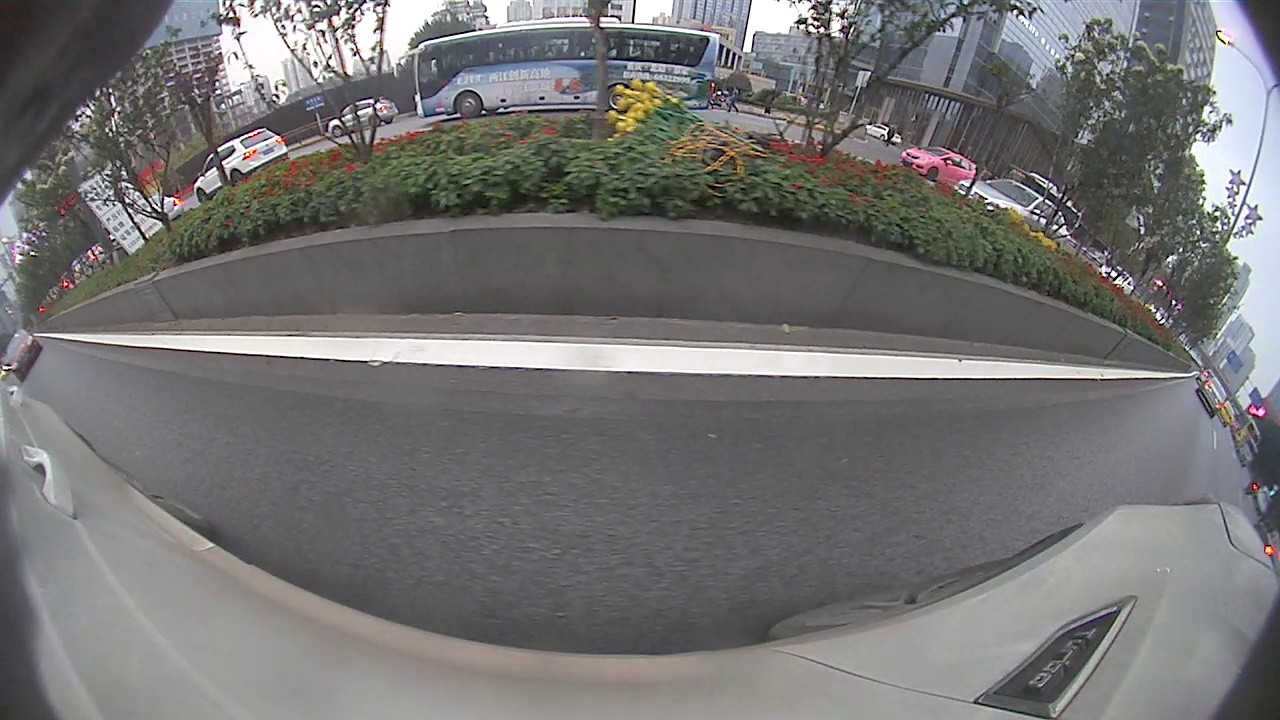bus: (410, 22, 724, 123)
car: (1, 325, 46, 382), (1196, 375, 1229, 419)
front: (454, 90, 484, 119)
rear: (607, 84, 633, 114)
